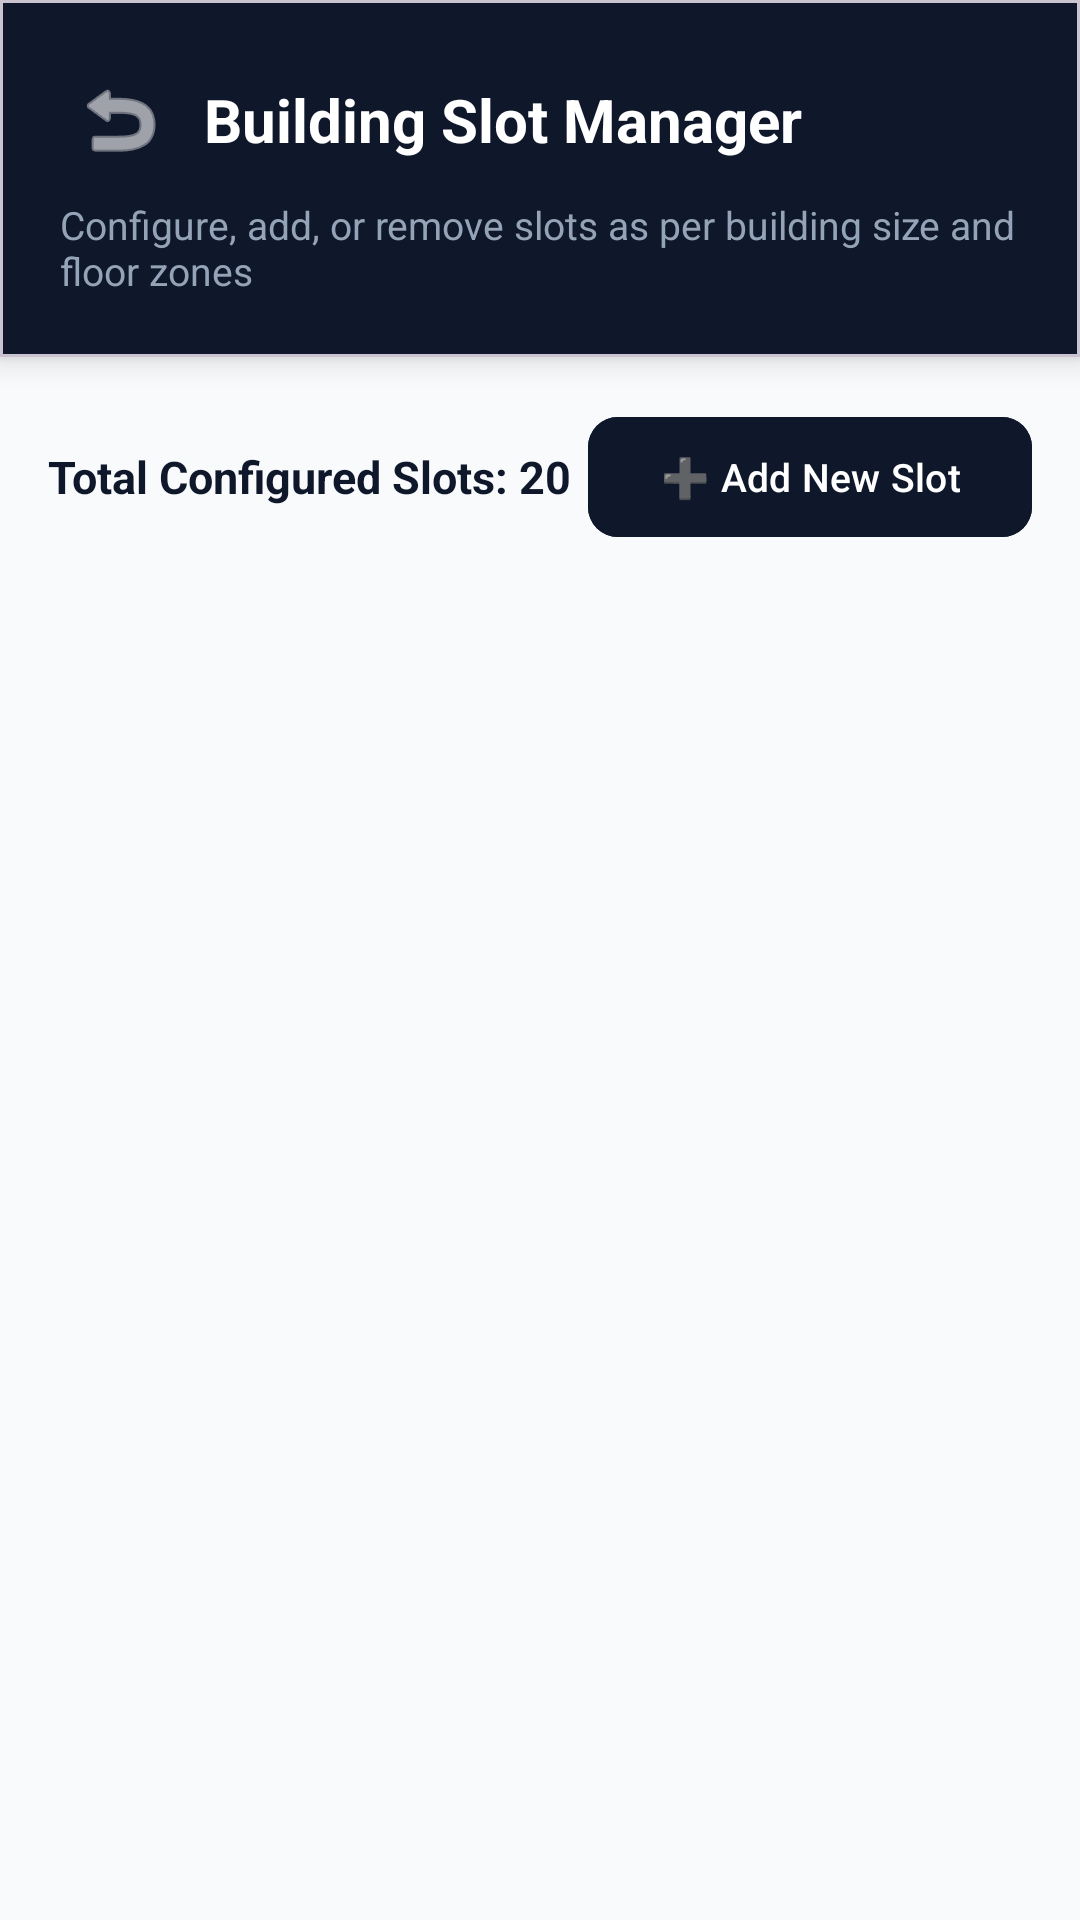

Locate icon controls on the screen. Image size 1080px×1920px, boxes as (left=x1, top=y1, right=x2, bottom=y2).
Back: (left=87, top=89, right=156, bottom=152)
